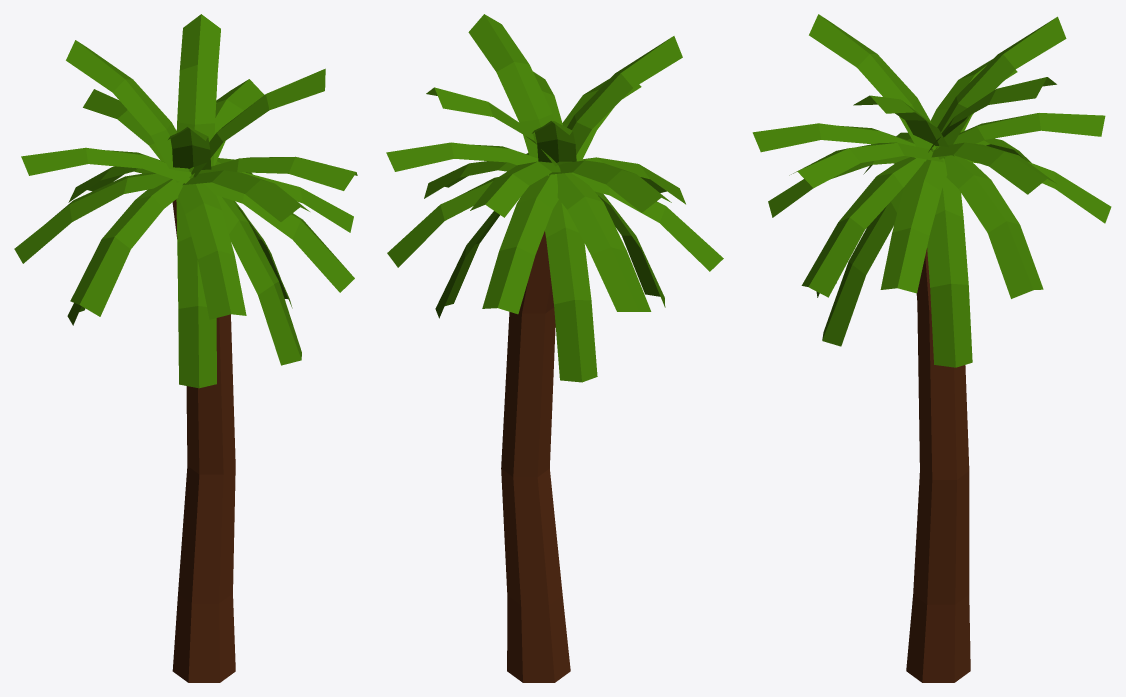
The model's file is PalmTree2.fbx.
The picture shows the model from 3 angles, left to right: view 1: azimuth 30°, elevation 25°; view 2: azimuth 150°, elevation 25°; view 3: azimuth 270°, elevation 25°; orthographic projection. The views are drawn at different scales.
Visible parts, largest first — view 1: Cylinder; view 2: Cylinder; view 3: Cylinder.
Part boxes in pixels (left/top/right/bottom): Cylinder: left=14, top=14, right=357, bottom=682; Cylinder: left=386, top=14, right=723, bottom=682; Cylinder: left=752, top=14, right=1111, bottom=682.
Size of the model in its own units: 4.42 by 9.02 by 4.74.
